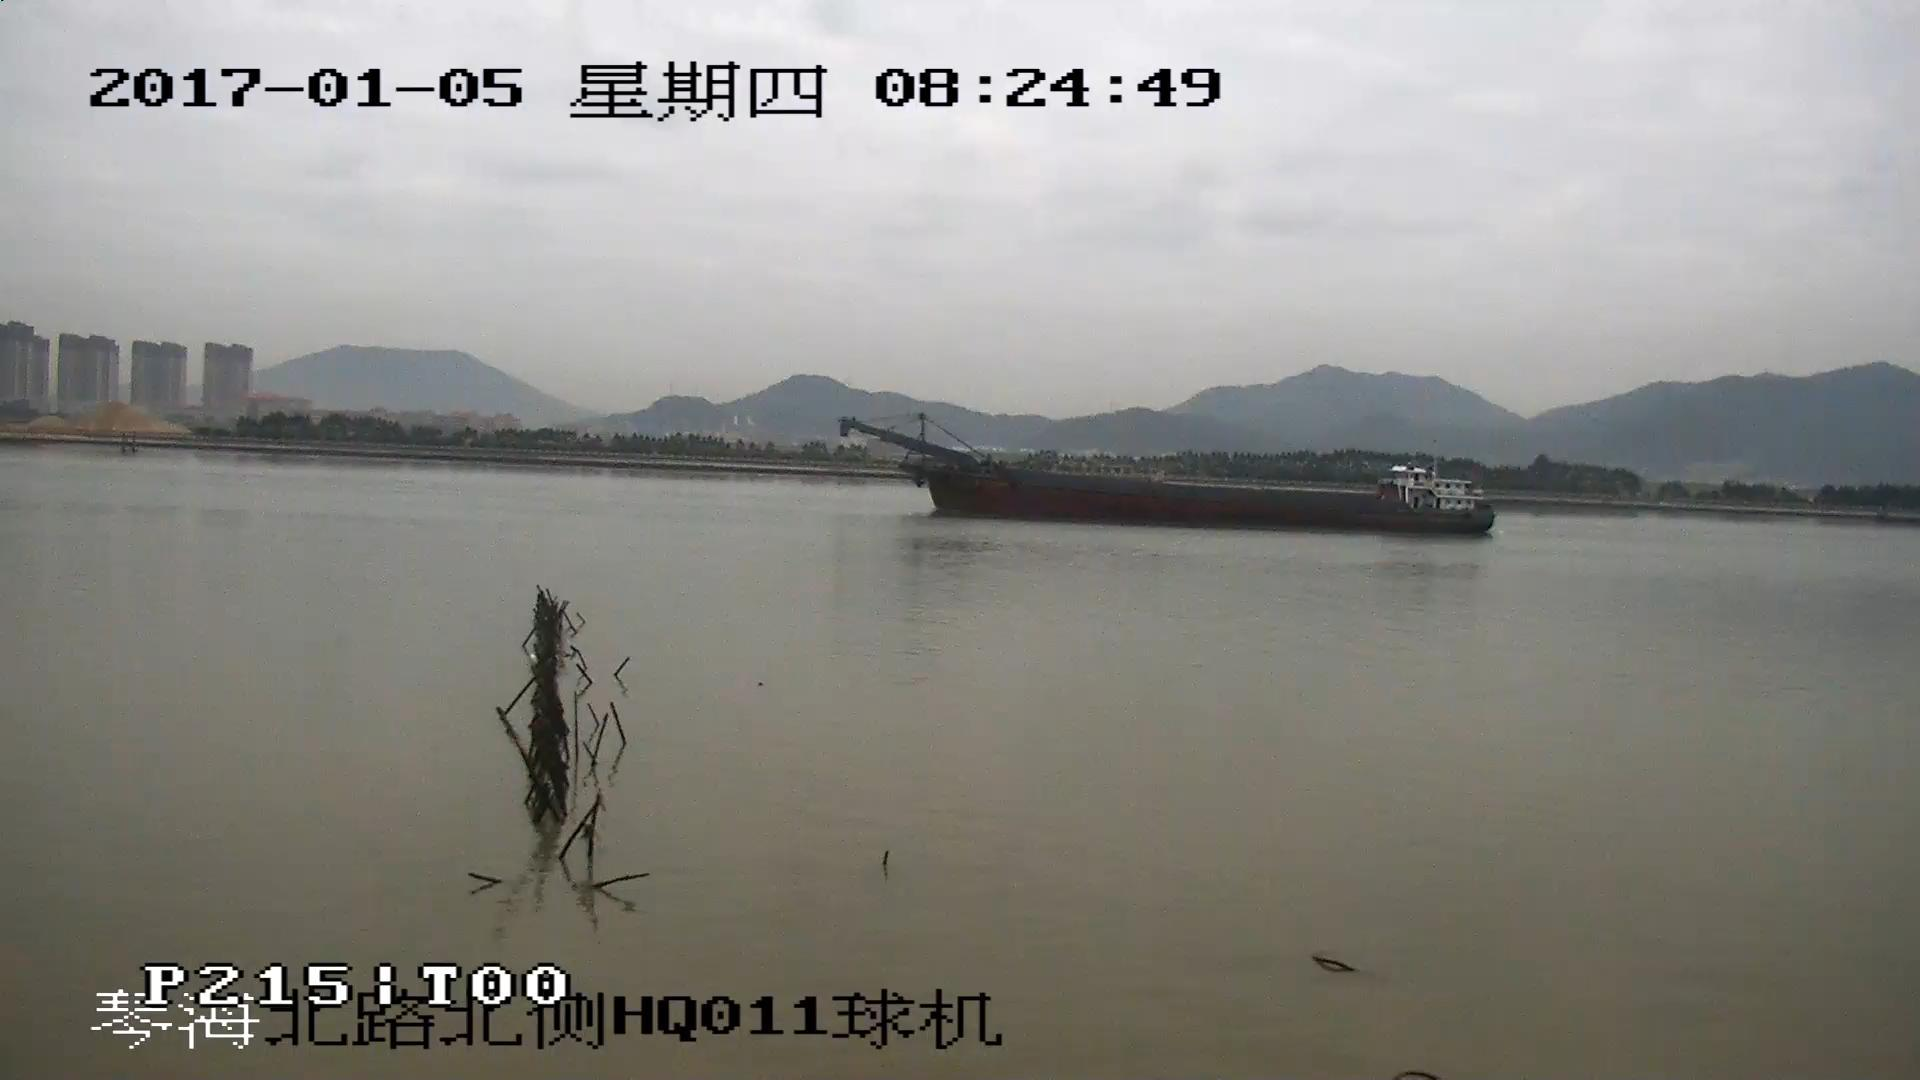Ship: (845, 415, 1495, 537)
